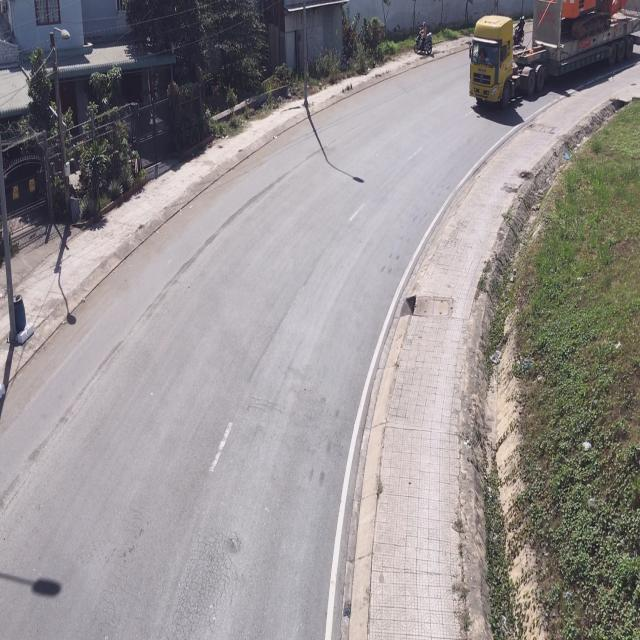motorbike: (412, 20, 433, 55), (514, 10, 526, 42)
truck: (470, 1, 640, 112)
